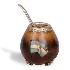guampa: (14, 2, 60, 67)
